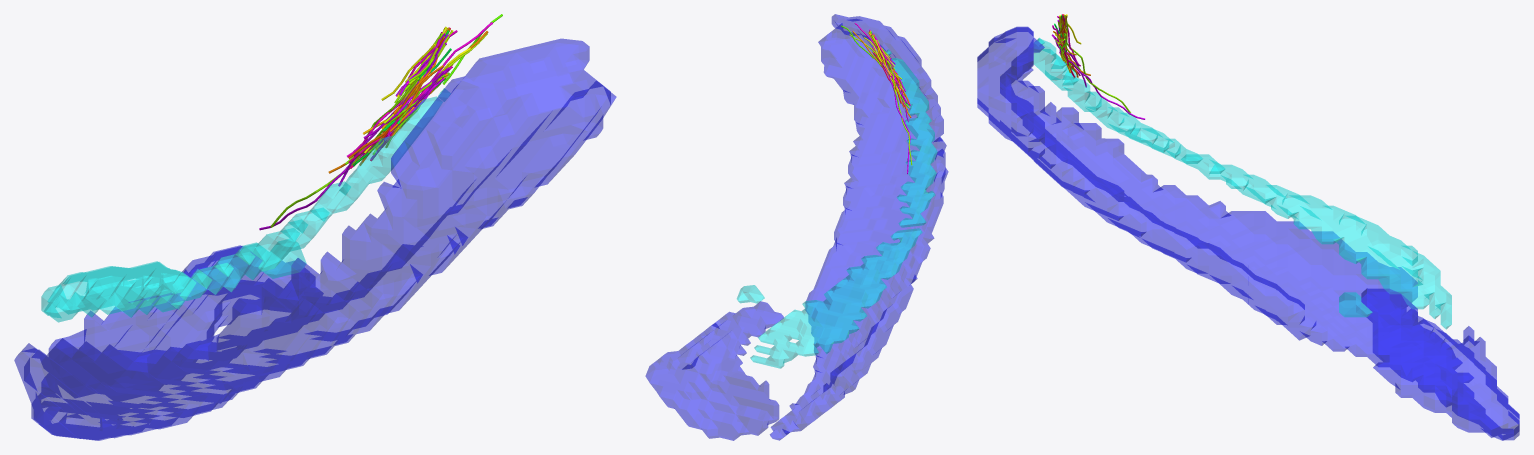
3 views of the same model, side by side, from view 1: azimuth 30°, elevation 25°; view 2: azimuth 150°, elevation 25°; view 3: azimuth 270°, elevation 25° (orthographic). The views are drawn at different scales.
Visible parts, largest first — view 1: CA1, CA2CA3; view 2: CA1, CA2CA3; view 3: CA1, CA2CA3.
Part boxes in pixels (bbox=[...]): CA1: bbox=[14, 38, 616, 440]; CA2CA3: bbox=[41, 88, 450, 322]; CA1: bbox=[645, 14, 948, 440]; CA2CA3: bbox=[737, 49, 937, 368]; CA1: bbox=[977, 26, 1519, 440]; CA2CA3: bbox=[1033, 38, 1451, 329].
Bounding box in the file's own units: 18.2 × 28.81 × 33.6.
3 materials, 1 textured.
